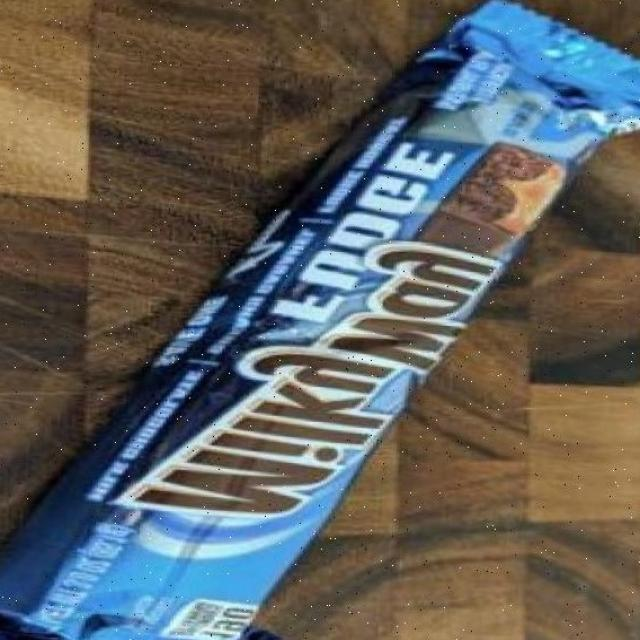Dry Waste: (280, 0, 640, 307), (108, 232, 442, 560), (0, 435, 290, 640)
